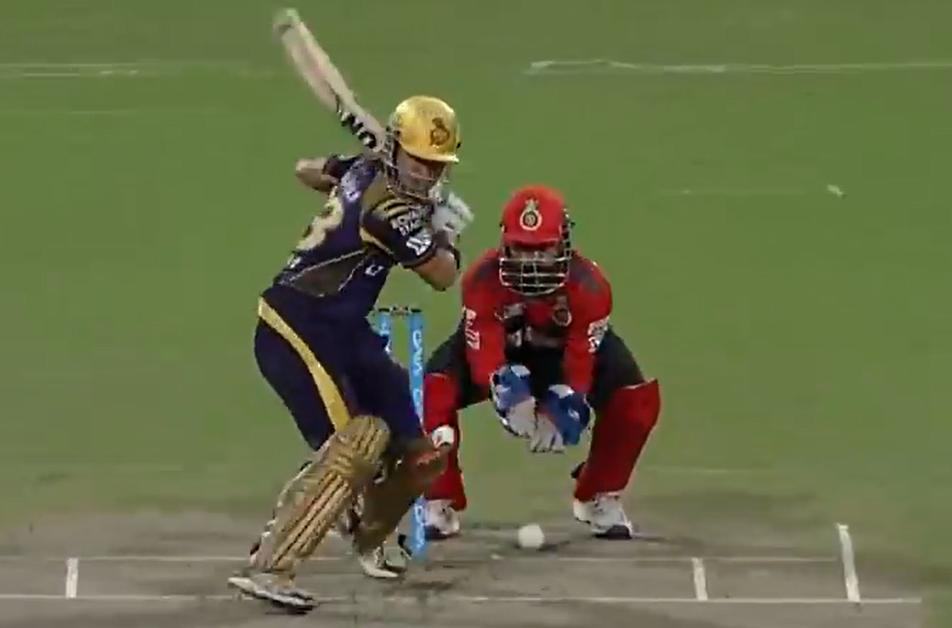batsman: (209, 61, 463, 602)
